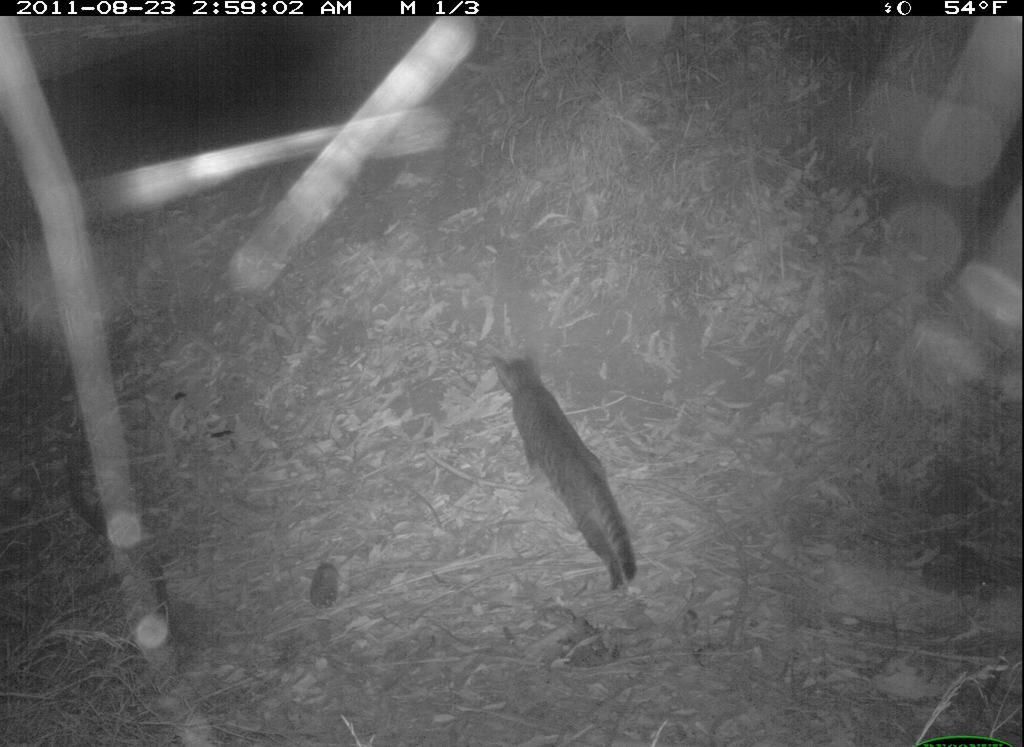cat: (491, 345, 644, 594)
